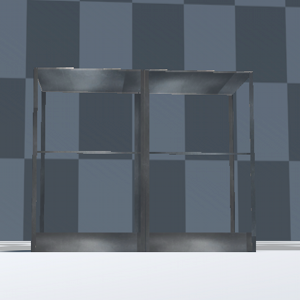Rack: (29, 65, 256, 254)
